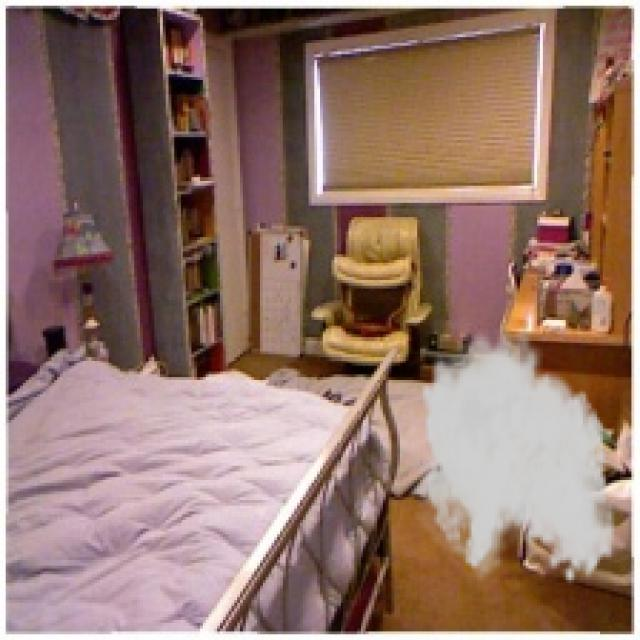smoke: (409, 320, 617, 586)
